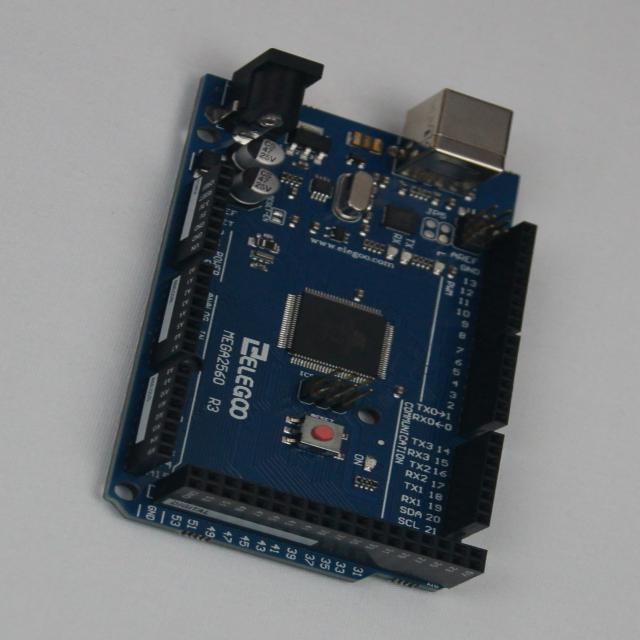Arduino Mega 2560 -Blue-: (106, 50, 536, 588)
